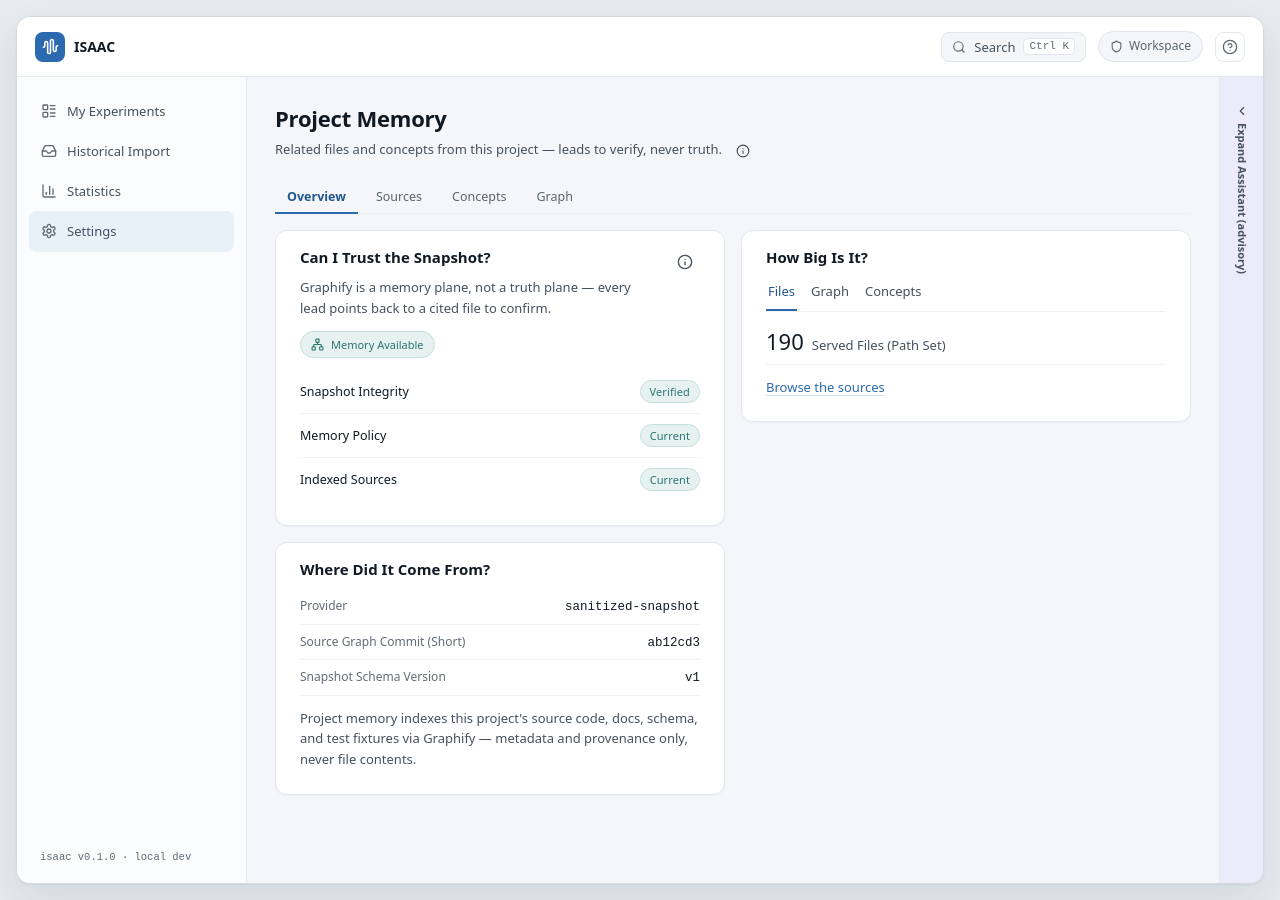
Test: P33 S3 (D6) · Project Memory tabs — content routing › clicking Concepts reveals the Concept Lookup
Expected: the text "Memory Available" is shown, [331,336,424,353]
Click the tab "Concepts" at (479, 198), box [440,181,518,214]
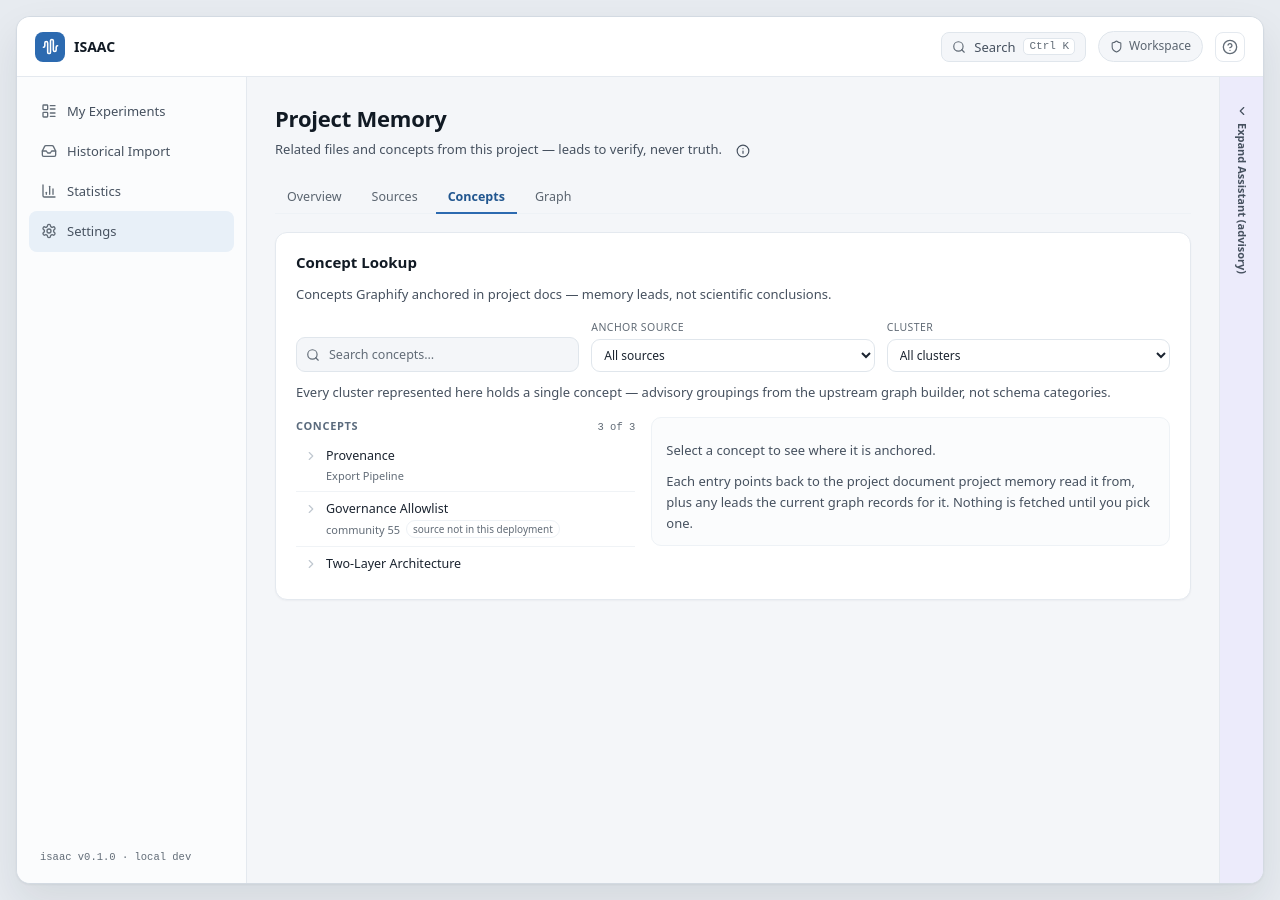
Result: the heading "Concept Lookup" is shown at [296,252,417,272]
